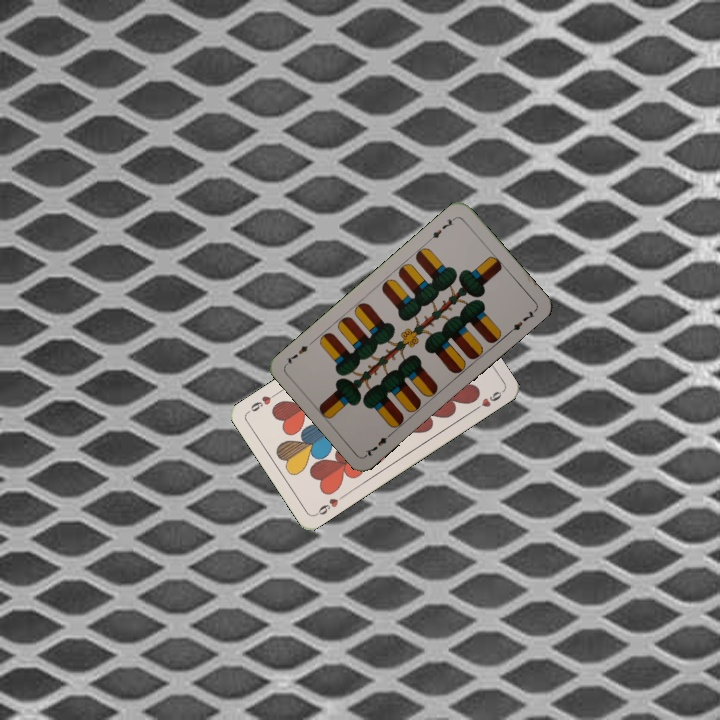E7: (361, 428, 395, 459), (425, 213, 458, 244)
H9: (311, 491, 347, 518)
